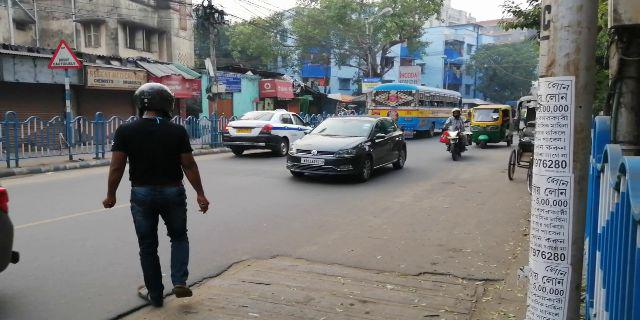Autorickshaw: (471, 106, 509, 147)
Bus: (379, 84, 466, 132)
Car: (289, 116, 411, 178), (223, 109, 313, 155)
Motorbike: (438, 104, 467, 160)
